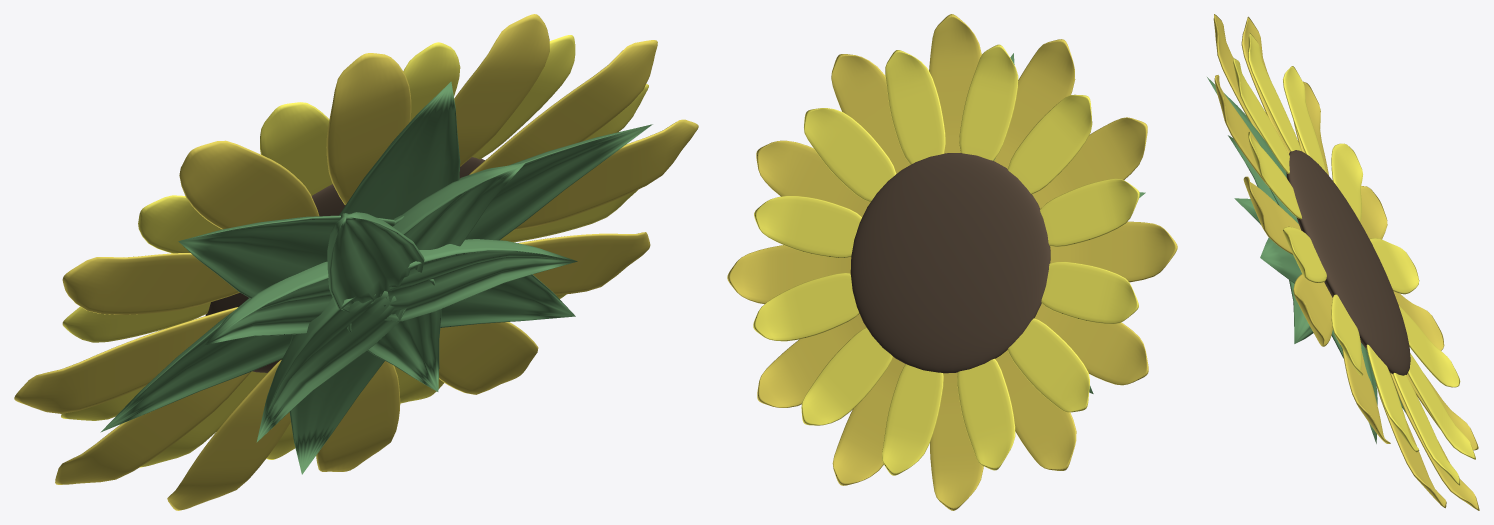
Rendered from sunflower.fbx.
The picture shows the model from 3 angles, left to right: view 1: azimuth 30°, elevation 25°; view 2: azimuth 150°, elevation 25°; view 3: azimuth 270°, elevation 25°; orthographic projection. The views are drawn at different scales.
Visible parts, largest first — view 1: pCone3 (×2), pCone2 (×2), pCone1 (×2), pCube12 (×2), pCone5 (×2), pCone4 (×2), pCube2 (×2), pCube1 (×2), pCube11 (×2), pCube10 (×2), pCube3 (×2), pCube4 (×2) (+7 smaller); view 2: pSphere1, pCube1 (×2), pCube2 (×2), pCube12 (×2), pCube3 (×2), pCube4 (×2), pCube11 (×2), pCube5 (×2), pCube6 (×2), pCube10 (×2), pCube7 (×2), pCube8 (×2) (+1 smaller); view 3: pSphere1, pCube6 (×2), pCube7 (×2), pCube5 (×2), pCube8 (×2), pCube12 (×2), pCube11 (×2), pCube9 (×2), pCube4 (×2), pCube3 (×2), pCube1 (×2), pCube10 (×2) (+5 smaller).
Part boxes in pixels (<box>): pCone3 (×2): <box>178,212,424,312</box>; pCone2 (×2): <box>384,124,652,321</box>; pCone1 (×2): <box>339,81,525,249</box>; pCube12 (×2): <box>14,102,332,413</box>; pCone5 (×2): <box>256,291,407,474</box>; pCone4 (×2): <box>100,261,332,432</box>; pCube2 (×2): <box>179,35,575,229</box>; pCube1 (×2): <box>62,42,460,314</box>; pCube11 (×2): <box>55,195,250,484</box>; pCube10 (×2): <box>62,302,290,510</box>; pCube3 (×2): <box>326,53,648,204</box>; pCube4 (×2): <box>454,14,637,242</box>; pSphere1: <box>850,153,1050,373</box>; pCube1 (×2): <box>959,44,1177,282</box>; pCube2 (×2): <box>885,50,1147,208</box>; pCube12 (×2): <box>1007,94,1148,385</box>; pCube3 (×2): <box>804,39,1075,201</box>; pCube4 (×2): <box>754,14,981,257</box>; pCube11 (×2): <box>995,178,1139,470</box>; pCube5 (×2): <box>753,54,910,341</box>; pCube6 (×2): <box>756,140,892,425</box>; pCube10 (×2): <box>930,261,1138,510</box>; pCube7 (×2): <box>727,245,943,475</box>; pCube8 (×2): <box>757,314,1015,470</box>; pSphere1: <box>1286,150,1410,375</box>; pCube6 (×2): <box>1293,274,1460,485</box>; pCube7 (×2): <box>1342,348,1475,459</box>; pCube5 (×2): <box>1243,176,1419,452</box>; pCube8 (×2): <box>1376,306,1460,508</box>; pCube12 (×2): <box>1248,32,1387,239</box>; pCube11 (×2): <box>1283,66,1444,350</box>; pCube9 (×2): <box>1369,238,1479,510</box>; pCube4 (×2): <box>1214,75,1362,375</box>; pCube3 (×2): <box>1213,14,1326,282</box>; pCube1 (×2): <box>1233,58,1328,175</box>; pCube10 (×2): <box>1331,143,1478,450</box>.
Bounding box in the file's own units: 3.43 × 3 × 1.7.
